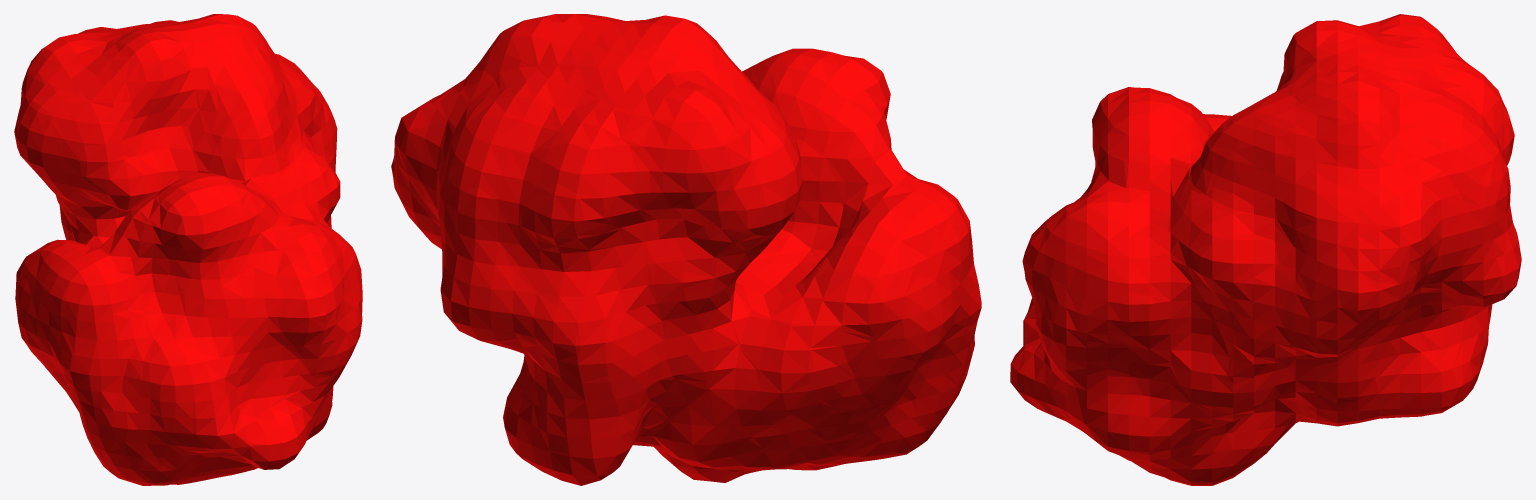
File: wecB_coarse.dae
3 views of the same model, side by side, from view 1: azimuth 30°, elevation 25°; view 2: azimuth 150°, elevation 25°; view 3: azimuth 270°, elevation 25° (orthographic). The views are drawn at different scales.
Visible parts, largest first — view 1: wecB; view 2: wecB; view 3: wecB.
Part boxes in pixels (x1,y1,x2,y2): wecB: [14, 14, 362, 485]; wecB: [391, 14, 981, 485]; wecB: [1010, 14, 1521, 485].
Size of the model in its own units: 58.76 by 61.01 by 63.15.
